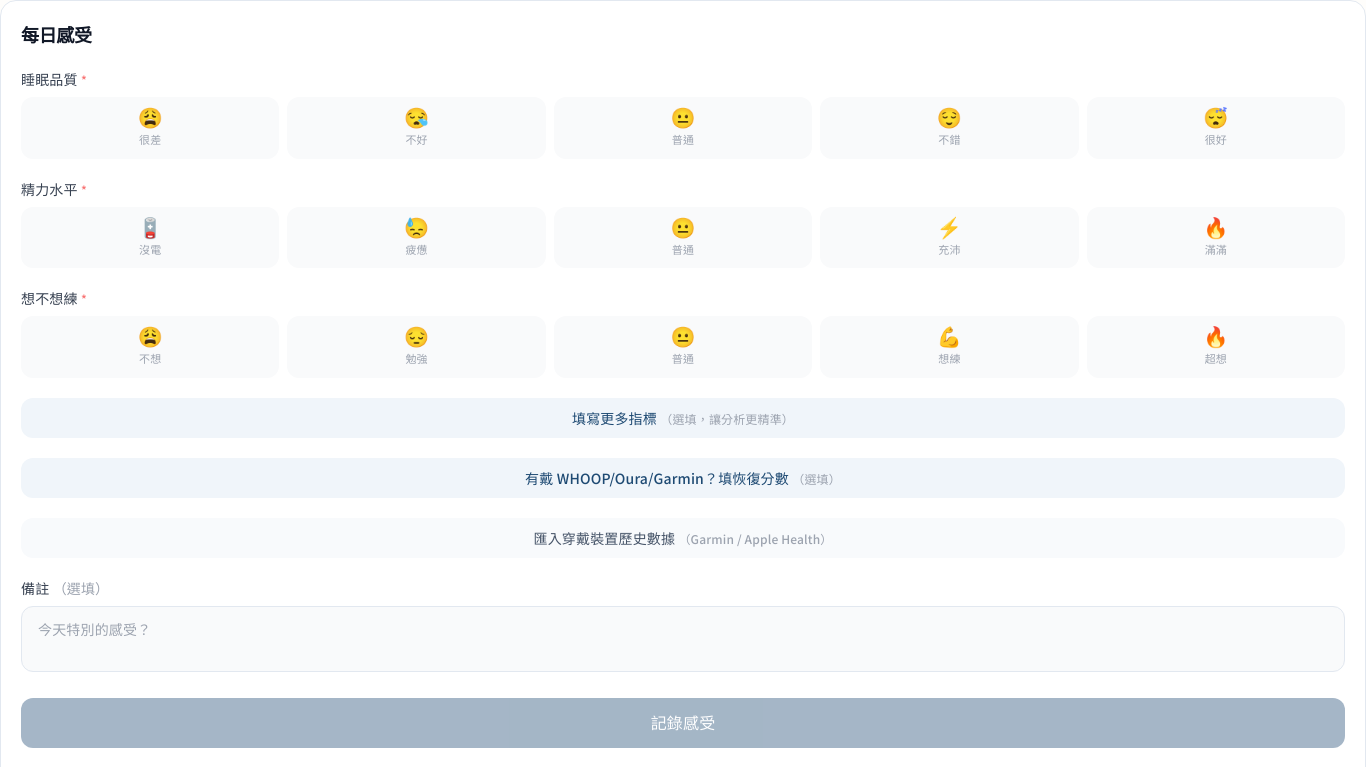
DailyWellness › can collapse the extra metrics section
Step 1. Click the button "填寫更多指標 （選填，讓分析更精準）" → [683, 418], box [21,398,1345,438]
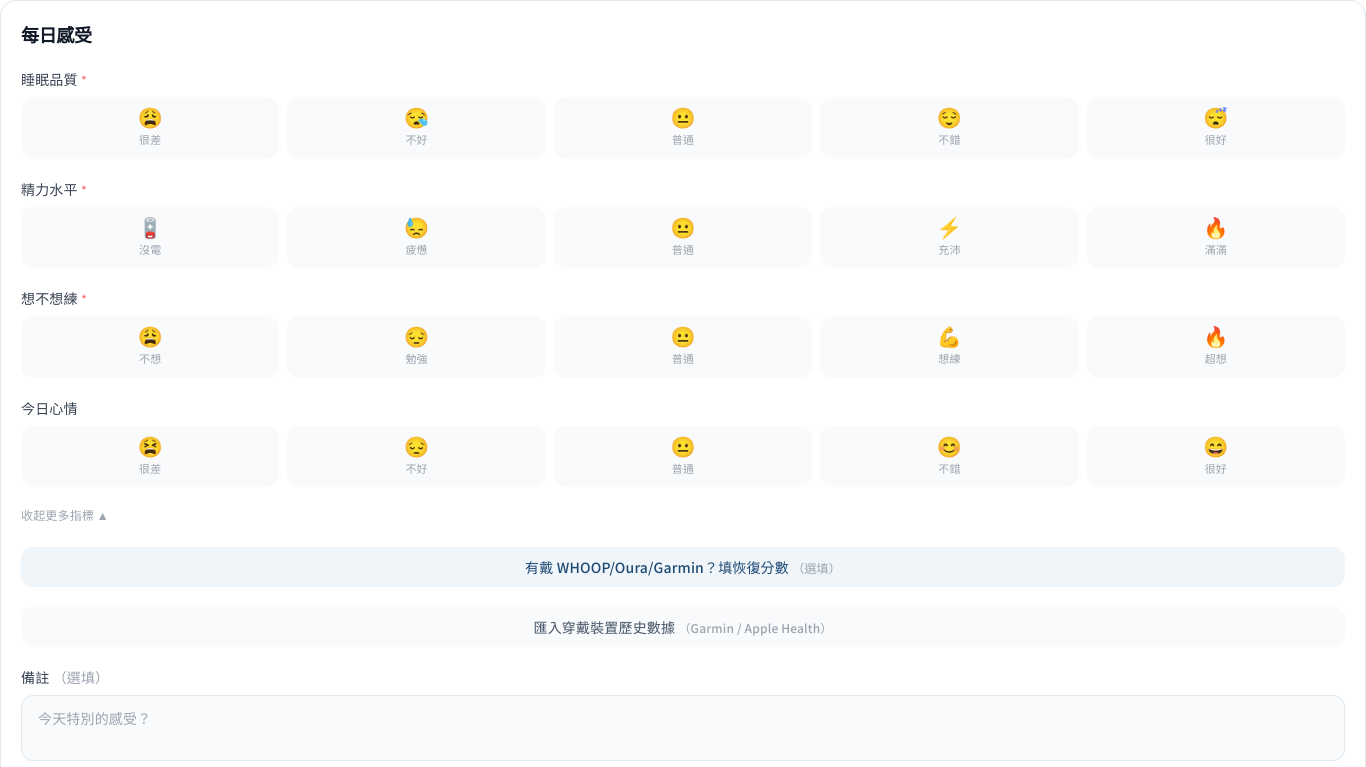
Result: the text "今日心情" is shown at [21,398,78,418]
Step 2. Click the button "收起更多指標 ▲" → [65, 515], box [21,507,109,523]
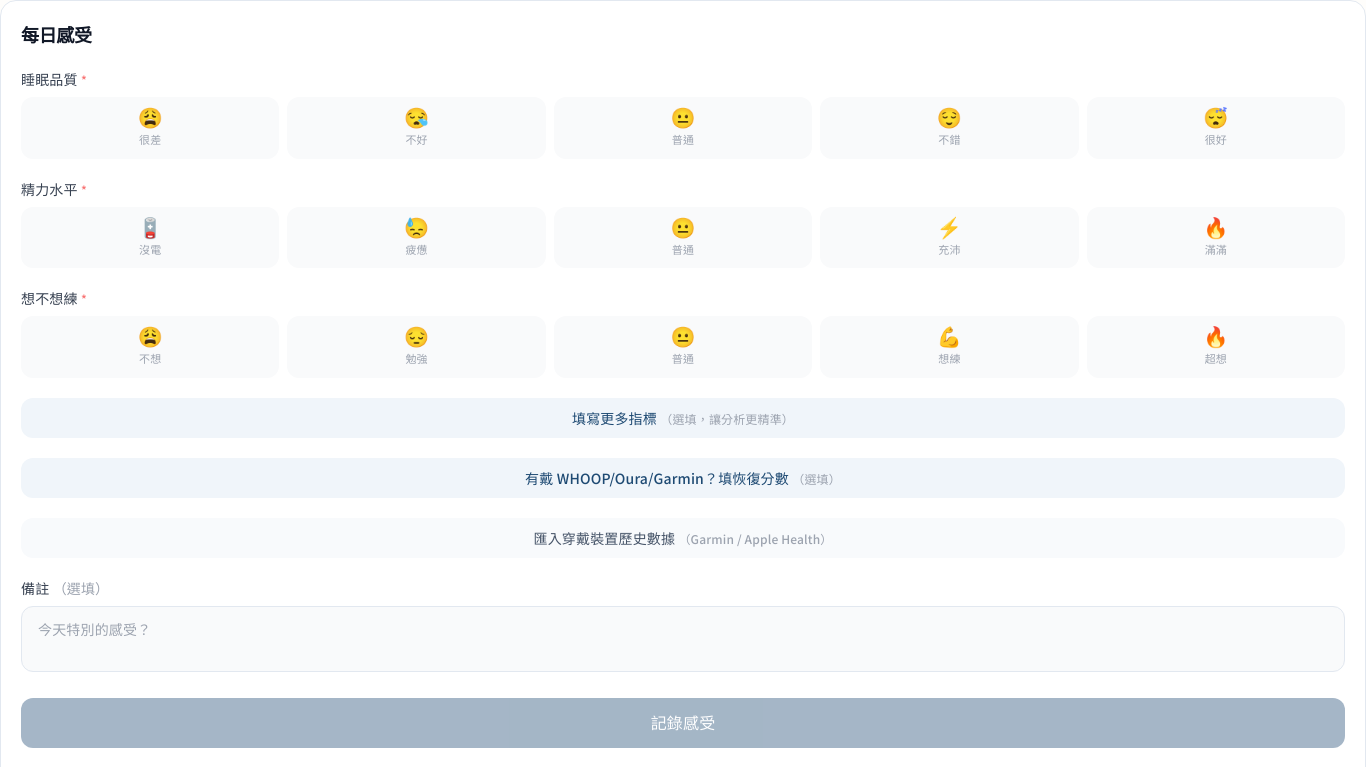
Result: the text "今日心情" is gone
